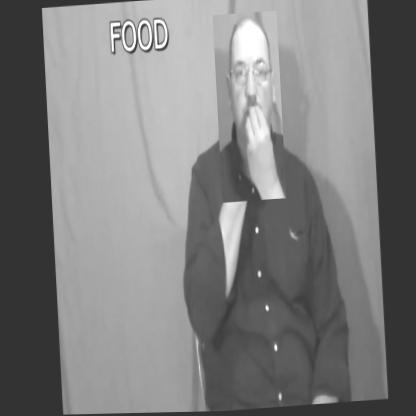Food: (212, 11, 286, 203)
